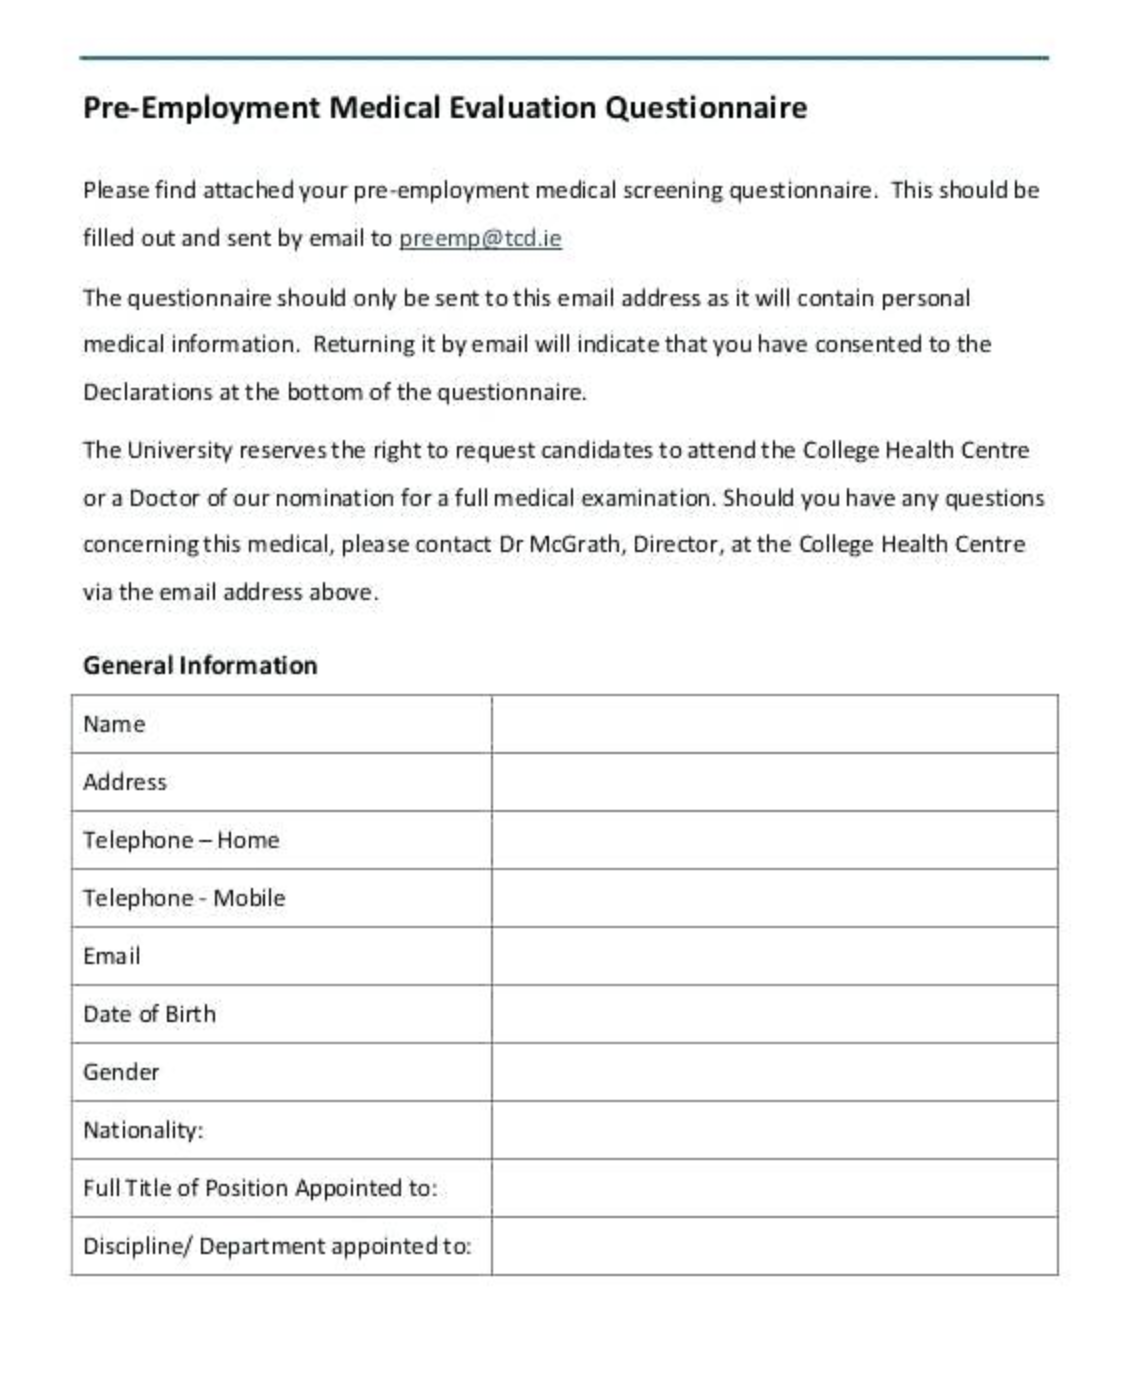textbox: (479, 685, 1067, 764), (479, 978, 1067, 1056), (484, 1204, 1064, 1284), (475, 746, 1065, 823), (477, 803, 1078, 878), (480, 1151, 1065, 1228), (479, 1036, 1071, 1111), (477, 857, 1064, 932), (482, 918, 1067, 993), (480, 1097, 1073, 1167)
